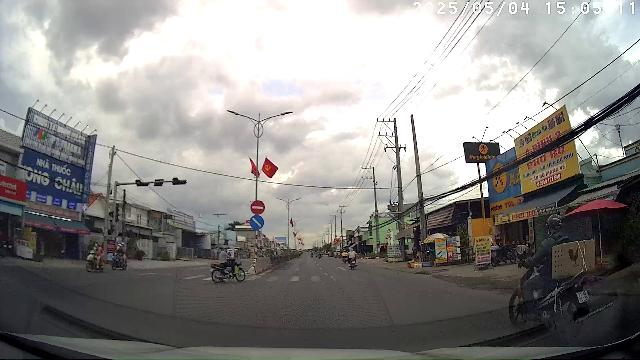102-cam-di-nguoc-chieu: (251, 200, 265, 214)
302a-huong-phai-di-vong-chuong-ngai-vat-1: (249, 214, 264, 229)
